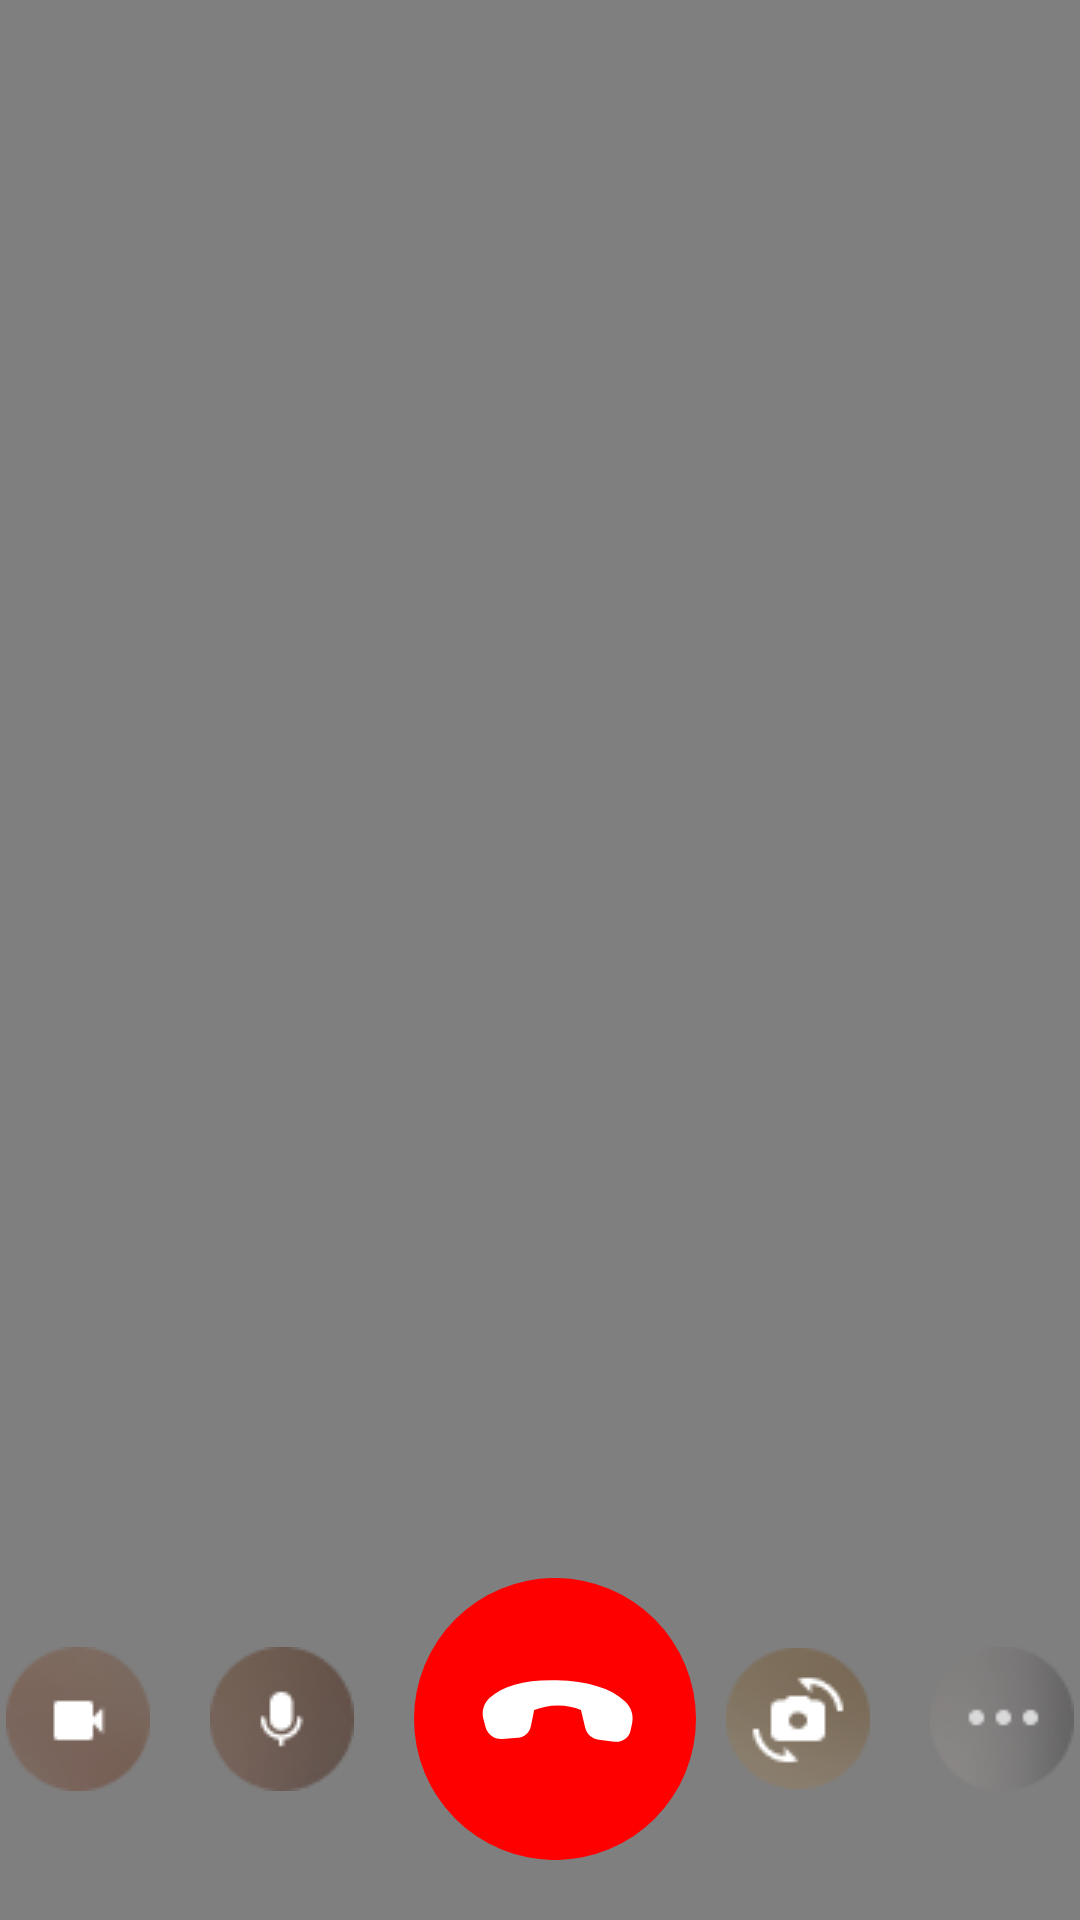

Screen size 1080×1920. Icon name, then its center in pixels as (x,y):
camera on: (78,1719)
end call: (555,1719)
mic on: (282,1719)
more: (1021,1720)
rotation: (798,1706)
